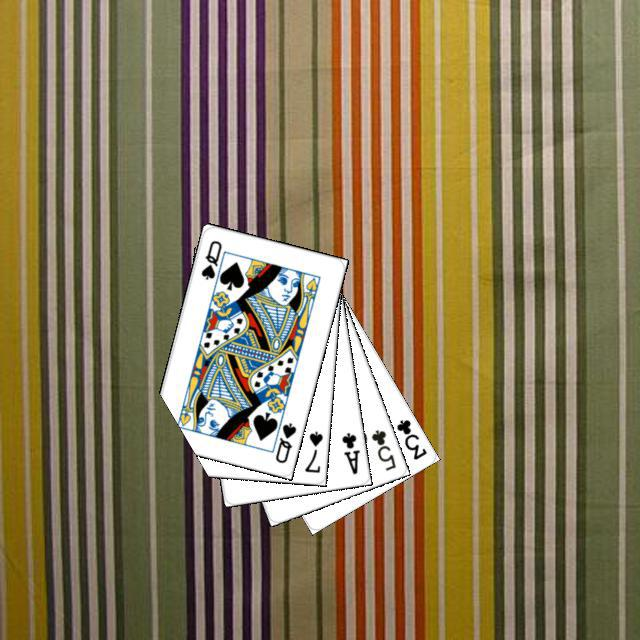3c: (391, 414, 429, 462)
5c: (366, 424, 397, 472)
7s: (300, 426, 324, 474)
Ac: (337, 428, 361, 476)
Qs: (270, 418, 298, 465), (196, 235, 223, 281)
